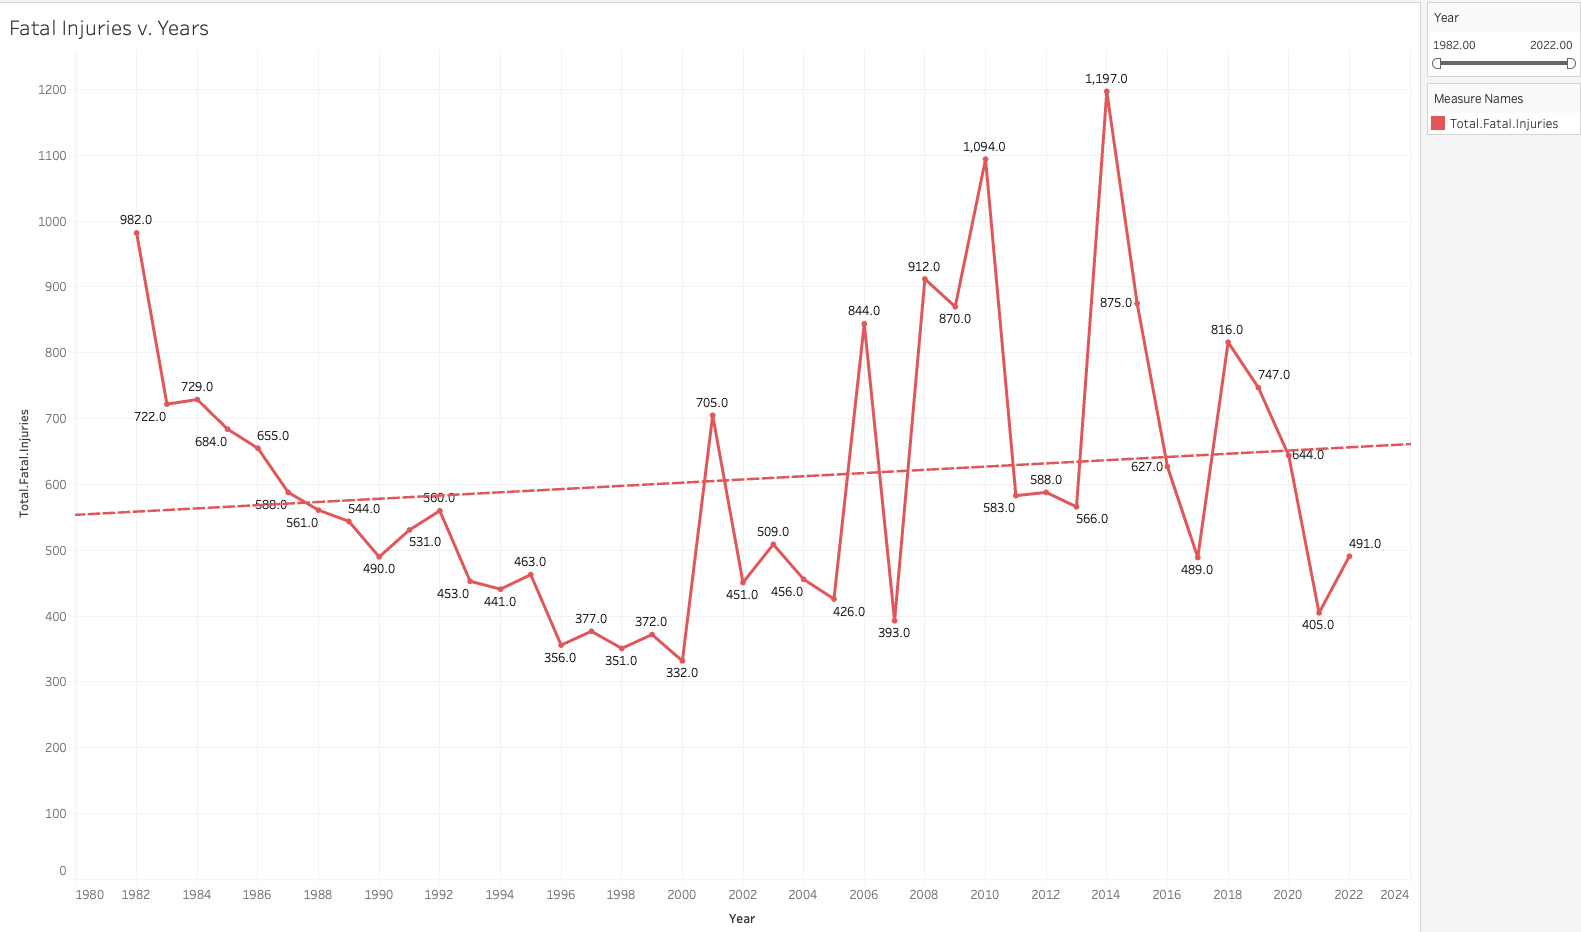

What the dashboard file says about the page in this screenshot:
{"tool":"tableau","page":{"name":"Fatal Injuries by Year","canvas":[1000,1000],"units":"permille","ordinal":2},"visuals":[{"type":"worksheet","title":"Fatal Injuries v. Years","mark":"Automatic","rows":["Total.Fatal.Injuries"],"cols":["Year"],"box":[4.2,7.9,822.6,984.2]},{"type":"legend","title":"Fatal Injuries v. Years","param":"[federated.0o84kao1vl792v117vuy905yovts].[:Measure Names]","box":[826.8,7.9,169,45.3]}]}

Visuals, with their boxes on the dashboard's canvas, which has no fixed pixel size, in thousandths of its width and height (x1, y1, x2, y2). These are canvas units, not pixel positions in the 1581x932 screenshot, which may show the page scaled, cropped or inside an application window:
"Fatal Injuries v. Years" worksheet: 4:8:827:992
"Fatal Injuries v. Years" legend: 827:8:996:53
